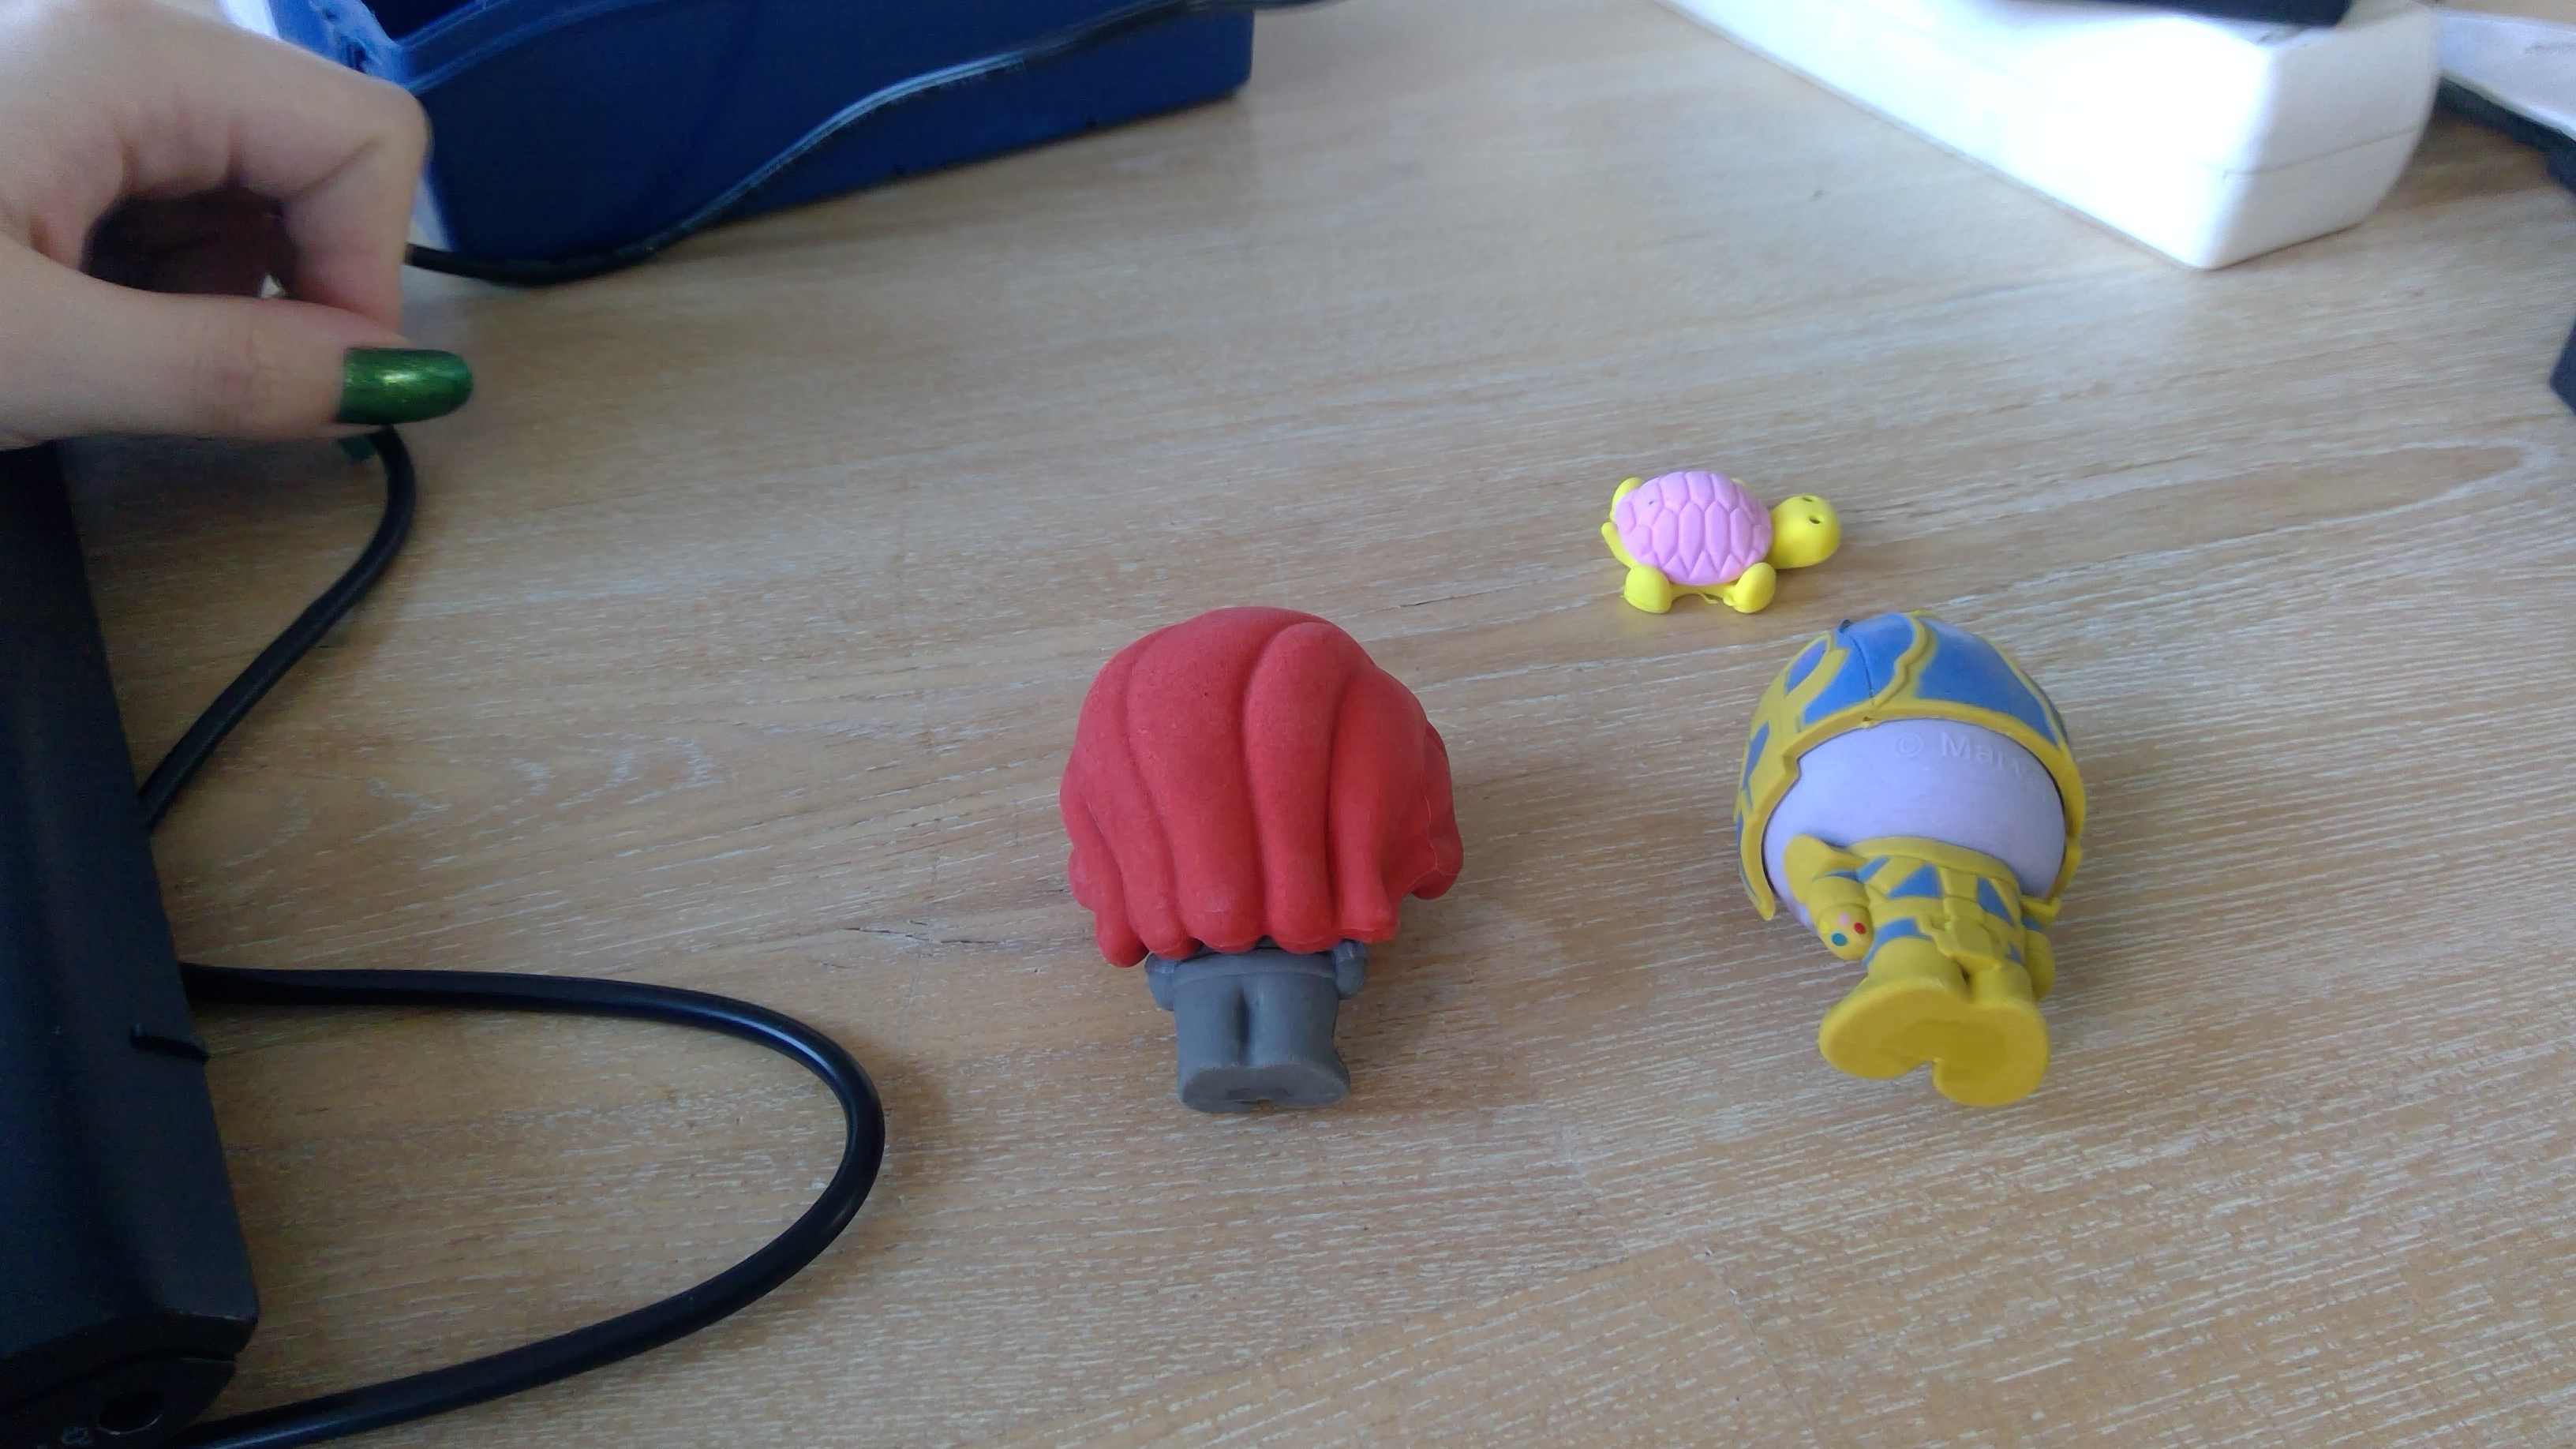schil: (1596, 469, 1844, 616)
spin: (1058, 610, 1465, 1113)
thanos: (1734, 607, 2089, 1109)
